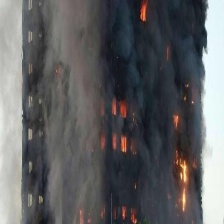fire: (174, 153, 191, 212), (139, 3, 148, 23), (172, 113, 182, 126)
smoke: (17, 1, 201, 224)
